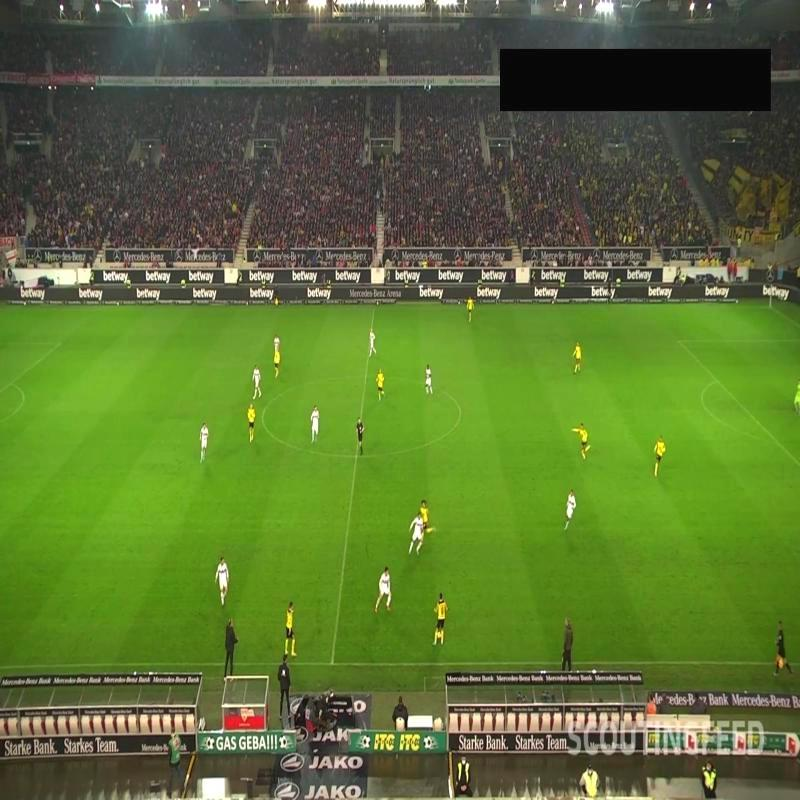1: (763, 300, 777, 314)
10: (706, 374, 728, 388), (4, 378, 18, 392)
11: (773, 438, 787, 452)
13: (368, 302, 382, 316)
14: (360, 369, 374, 383)
15: (350, 450, 364, 464)
16: (324, 654, 342, 674)
9: (668, 336, 688, 349), (53, 335, 68, 349)
c: (256, 412, 270, 426), (454, 406, 468, 420)
